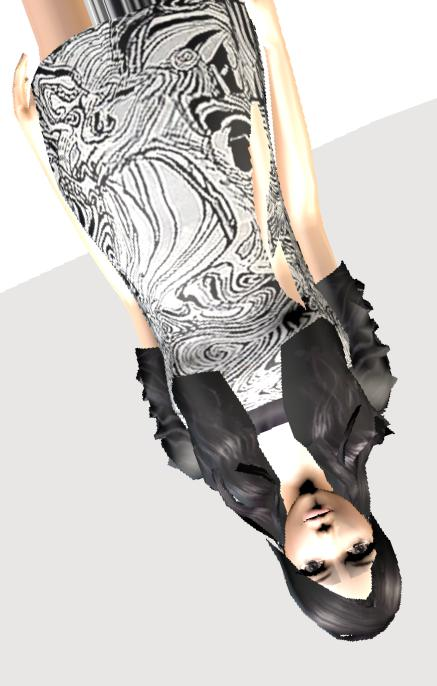clip: (245, 87, 275, 168)
